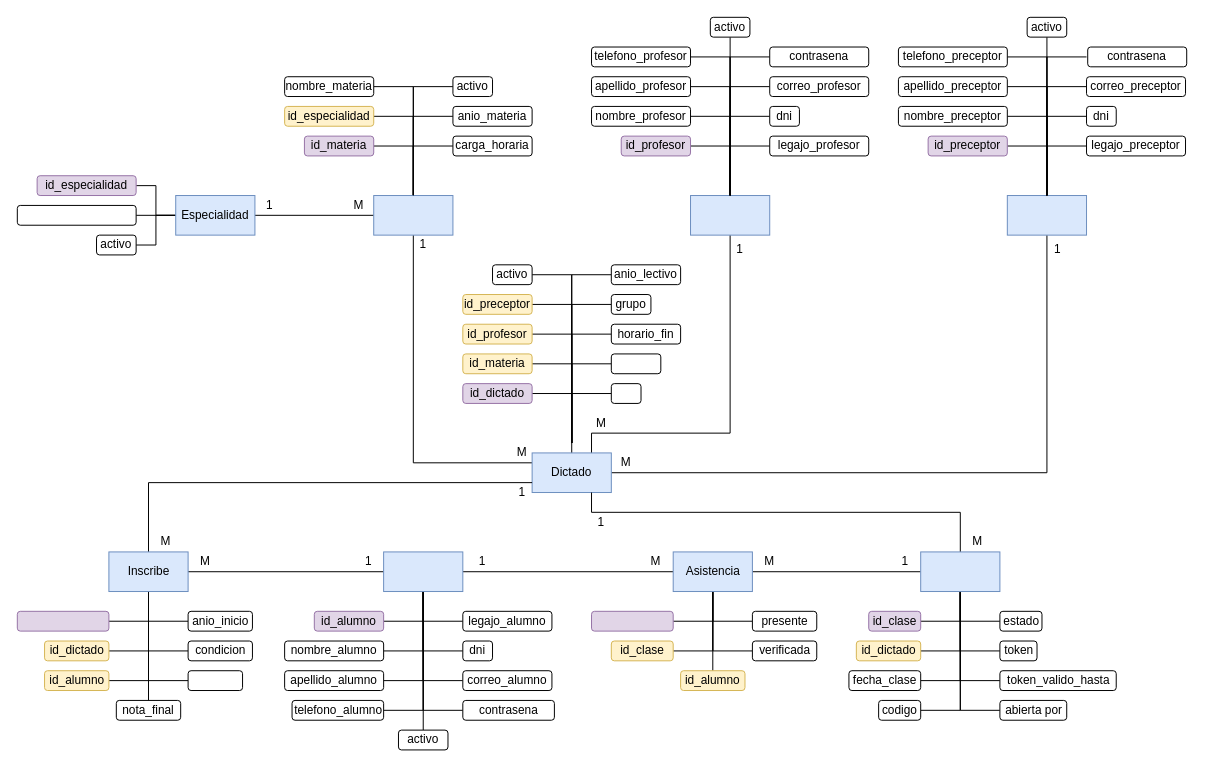
This 1205x767 diagram has some shape labels left out. The shapes that lost their labels are listed below. From the top down, each one's centre as x and y in pixels, then its label:
At (x=76, y=214): "nombre_especialidad".
At (x=413, y=215): "Materia".
At (x=730, y=215): "Profesor".
At (x=1046, y=215): "Preceptor".
At (x=635, y=363): "horario".
At (x=625, y=393): "dia".
At (x=423, y=571): "Alumno".
At (x=960, y=571): "Clase".
At (x=62, y=620): "id_inscripcion".
At (x=632, y=620): "id_asistencia".
At (x=215, y=680): "situacion".
